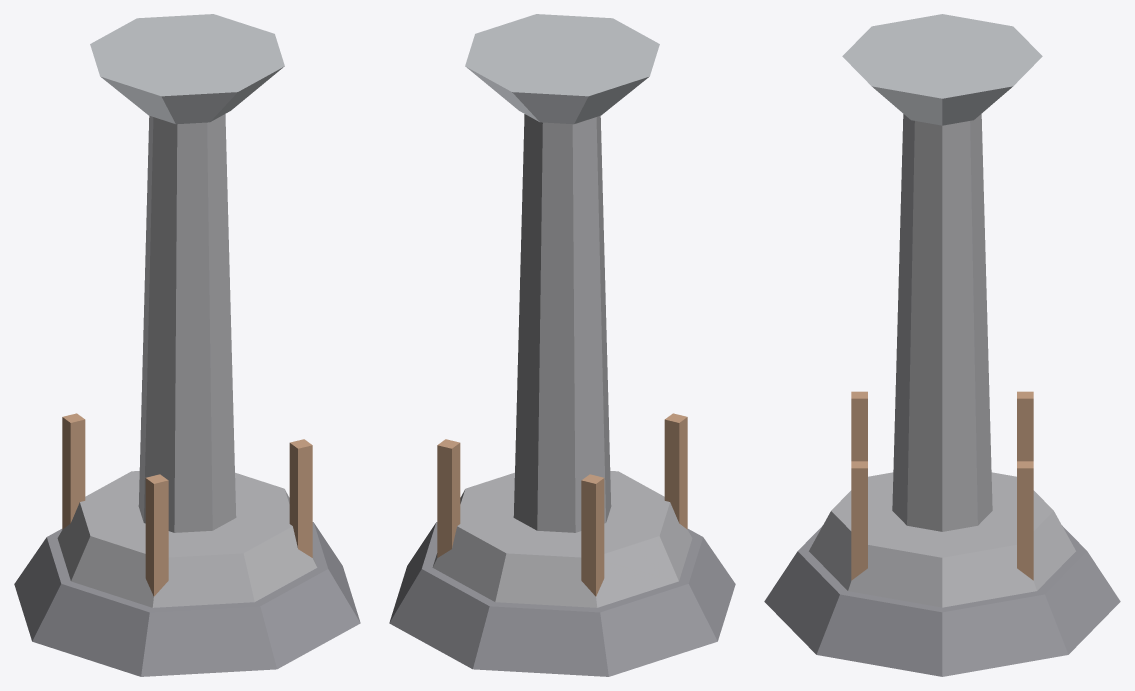
Rendered from beacon.glb.
3 views of the same model, side by side, from view 1: azimuth 30°, elevation 25°; view 2: azimuth 150°, elevation 25°; view 3: azimuth 270°, elevation 25° (orthographic).
Visible parts, largest first — view 1: beacon; view 2: beacon; view 3: beacon.
Boxes of the visible parts, x1,y1,x2,y2 form: beacon: (14,14,360,676); beacon: (389,14,735,676); beacon: (764,14,1120,676).
Size of the model in its own units: 3.2 by 5.4 by 3.2.
